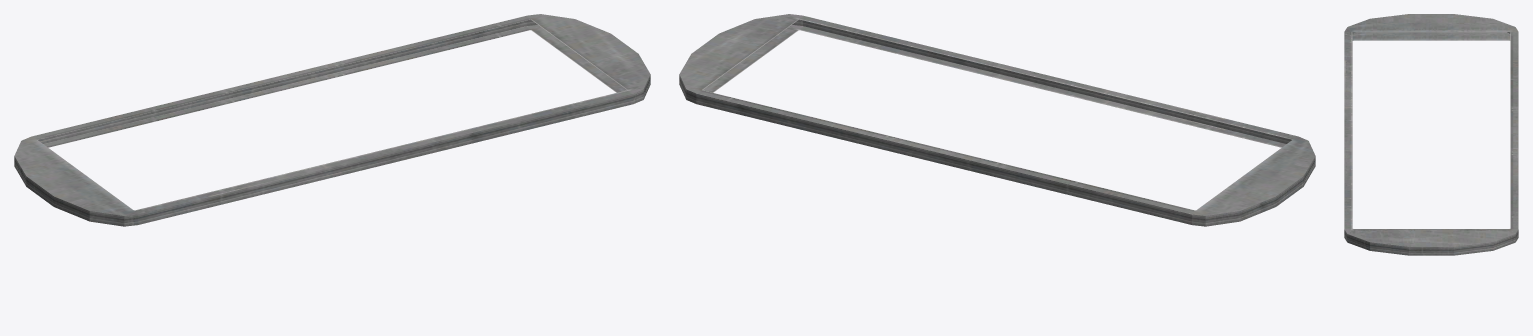
Rendered from frn_all_mdrn_coffee_table_s01_l1.fbx.
3 views of the same model, side by side, from view 1: azimuth 30°, elevation 25°; view 2: azimuth 150°, elevation 25°; view 3: azimuth 270°, elevation 25° (orthographic). The views are drawn at different scales.
Parts seen in each view (by area): view 1: mesh_node; view 2: mesh_node; view 3: mesh_node.
Boxes of the visible parts, x1=… form: mesh_node: x1=14, y1=14, x2=650, y2=226; mesh_node: x1=679, y1=14, x2=1315, y2=226; mesh_node: x1=1344, y1=14, x2=1518, y2=255.
Size of the model in its own units: 3.52 by 0.7908 by 1.11.
Materials: 1 (1 with a texture image).
